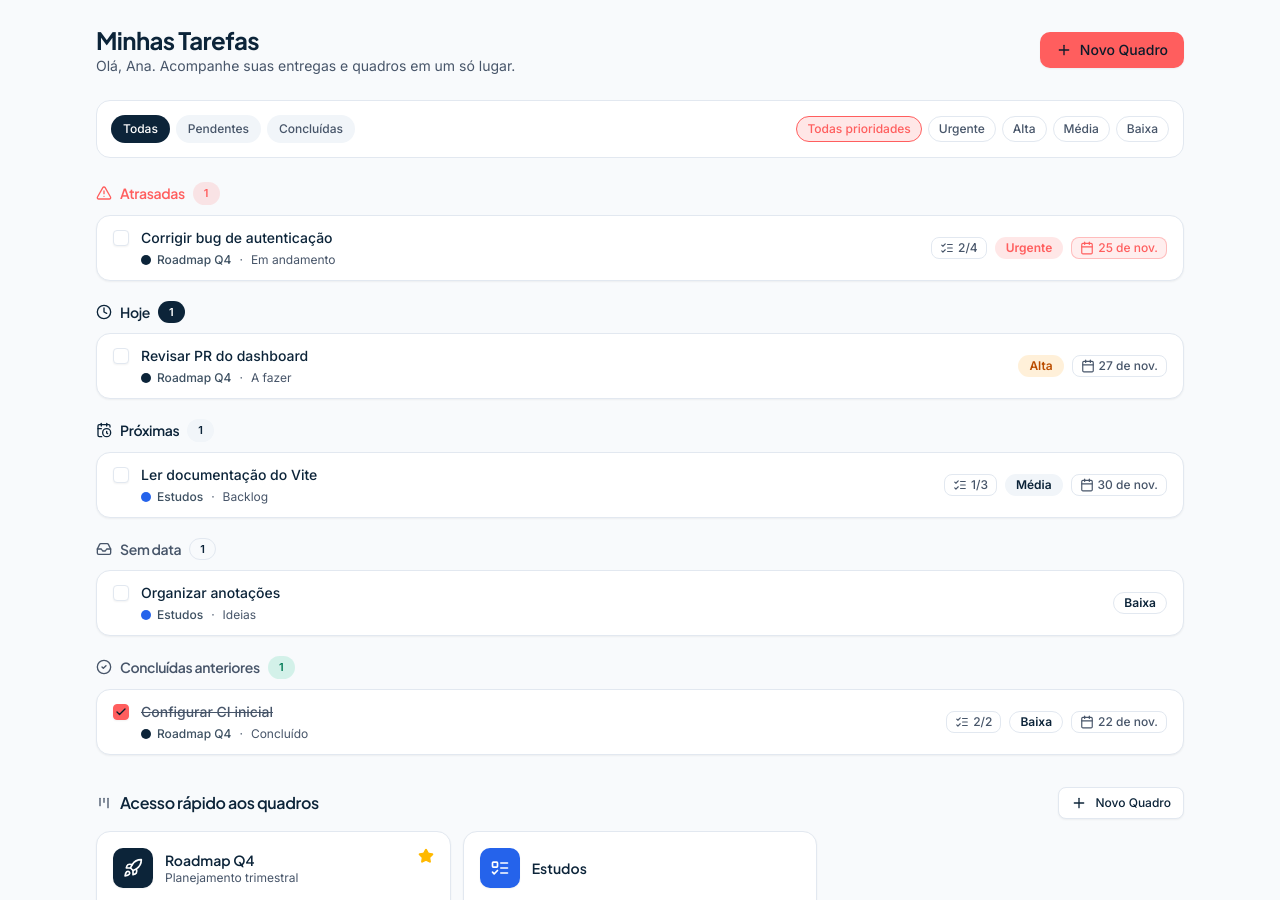
it: MyTasksPage › togglesTaskCompleteAndAppliesQuickFilters
Later steps or results of the test are not shown.
Expected: the link "Revisar PR do dashboard" is shown, left=141, top=346, right=308, bottom=366
Click the button "Concluídas" at (311, 129), box left=267, top=115, right=355, bottom=143
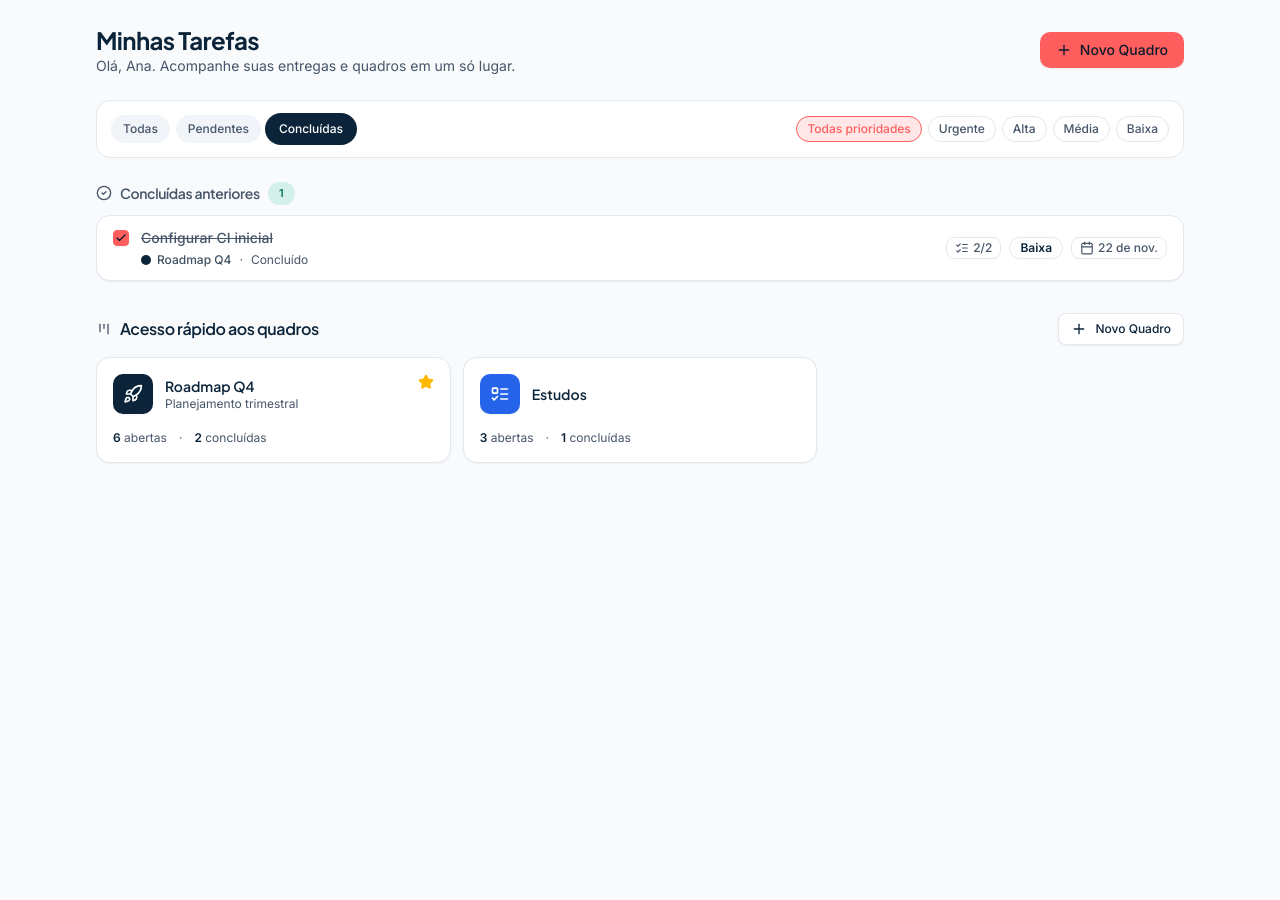
Expected: the link "Configurar CI inicial" is shown, left=141, top=228, right=273, bottom=246
Result: the link "Revisar PR do dashboard" is gone
Click the button "Pendentes" at (218, 129), box left=176, top=115, right=261, bottom=143
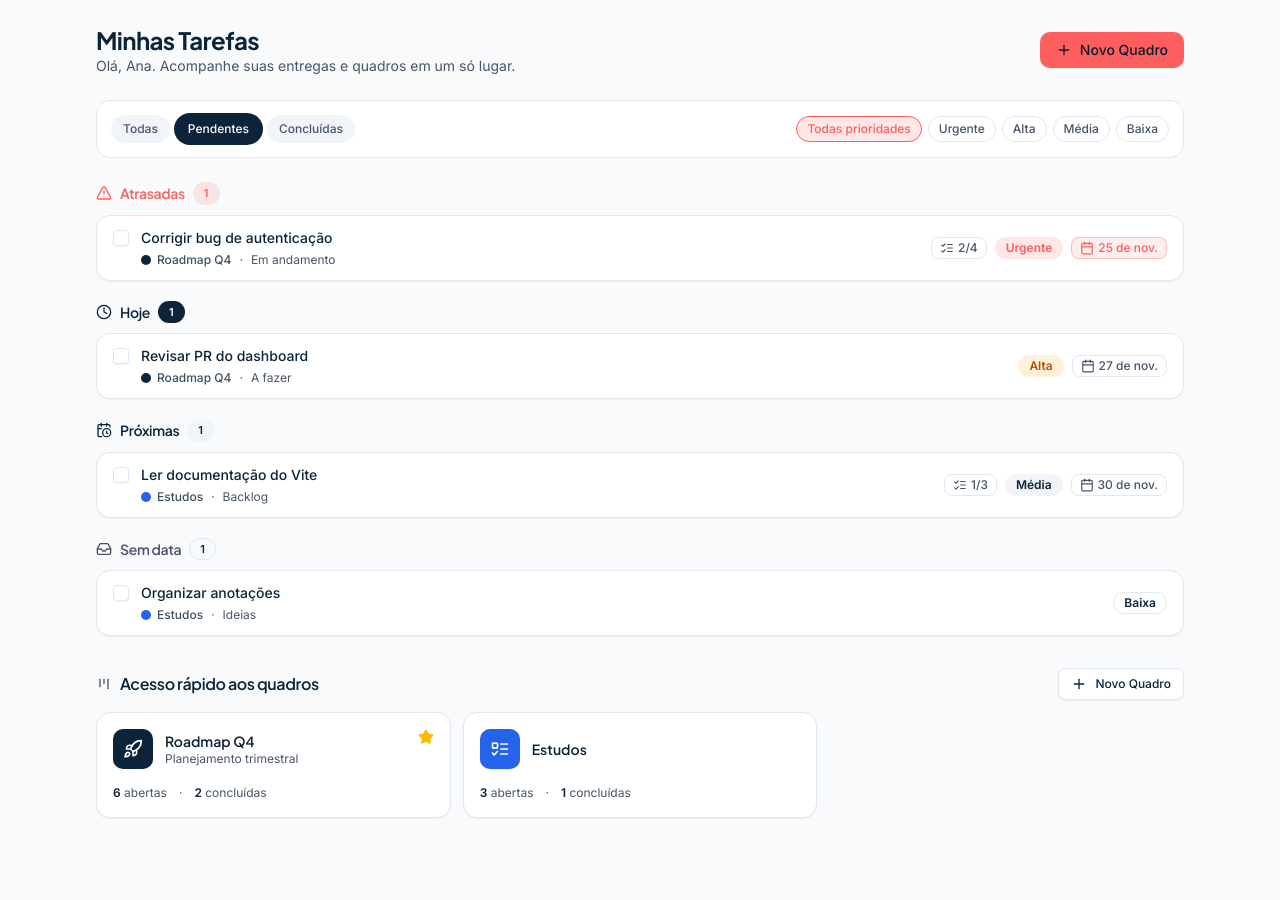
Result: the link "Revisar PR do dashboard" is shown at left=141, top=346, right=308, bottom=366
Result: the link "Configurar CI inicial" is gone
